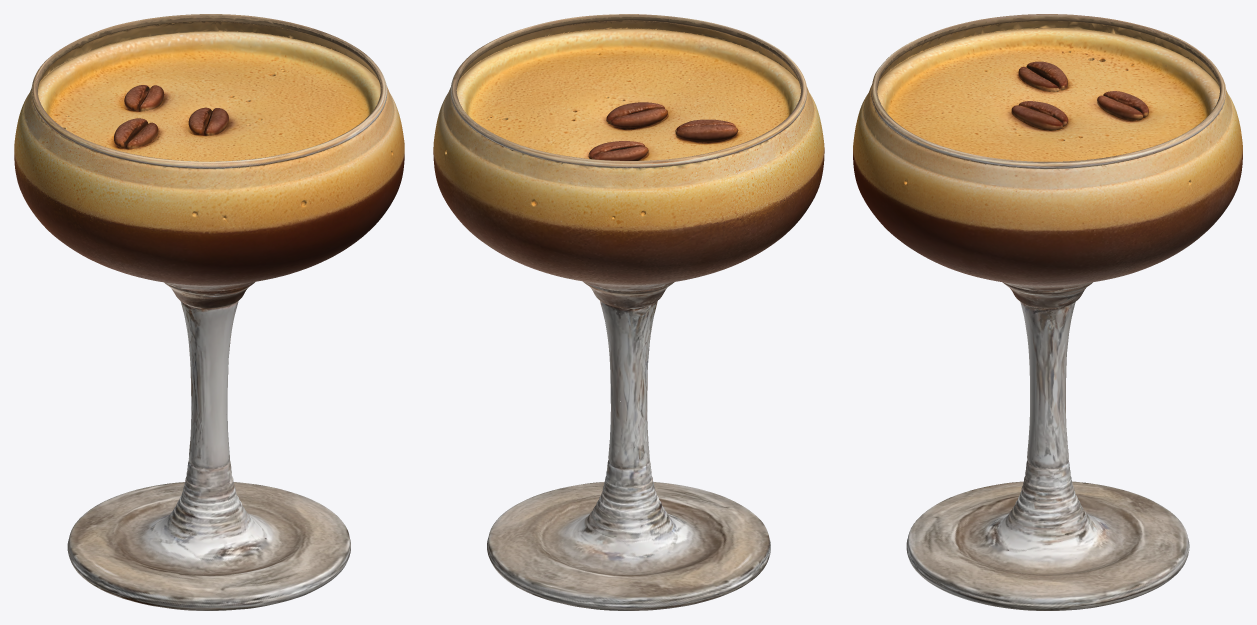
The model's file is haspresso-martini-hd-v1.glb.
3 renders of one model, left to right at view 1: azimuth 30°, elevation 25°; view 2: azimuth 150°, elevation 25°; view 3: azimuth 270°, elevation 25°, orthographic.
Visible parts, largest first — view 1: tripo_node_eb884ef3-80fe-4724-8610-bac24781410a; view 2: tripo_node_eb884ef3-80fe-4724-8610-bac24781410a; view 3: tripo_node_eb884ef3-80fe-4724-8610-bac24781410a.
Part boxes in pixels (x1=…): tripo_node_eb884ef3-80fe-4724-8610-bac24781410a: x1=14, y1=14, x2=404, y2=610; tripo_node_eb884ef3-80fe-4724-8610-bac24781410a: x1=433, y1=14, x2=824, y2=610; tripo_node_eb884ef3-80fe-4724-8610-bac24781410a: x1=853, y1=14, x2=1242, y2=610.
Bounding box in the file's own units: 0.7445 × 0.9811 × 0.7466.
1 material, 1 textured.
